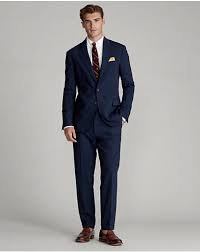F_M_suit jacket: (59, 38, 138, 128)
F_dress pants: (65, 119, 126, 232)
F_tie: (89, 42, 101, 75)
